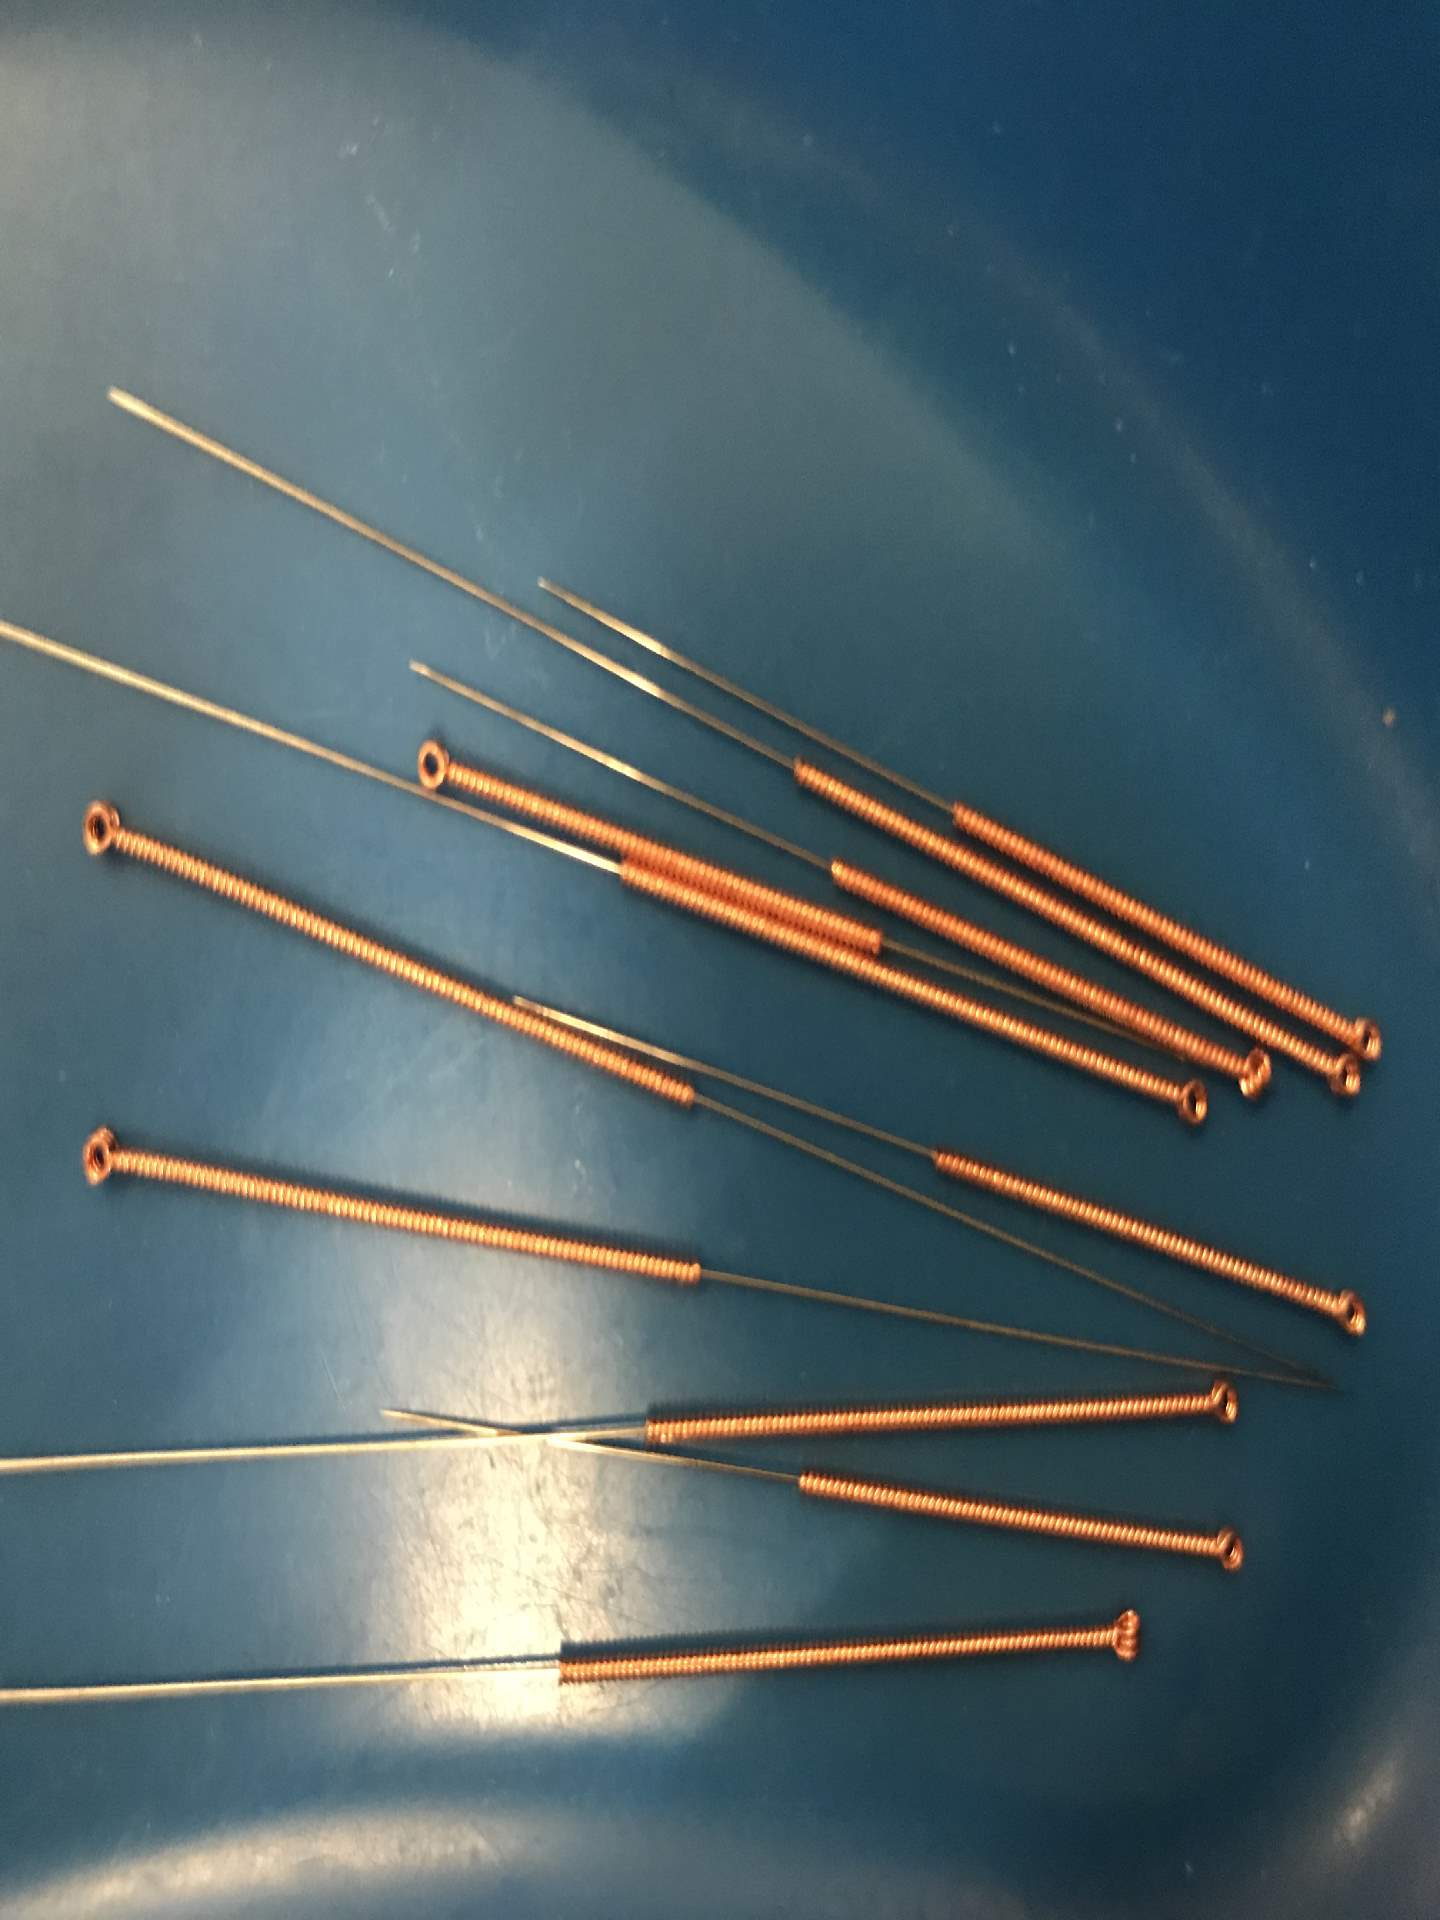needle: (57, 785, 147, 877), (390, 723, 476, 813), (59, 1108, 138, 1203), (1305, 1265, 1383, 1355), (1088, 1593, 1159, 1677), (1181, 1367, 1252, 1439), (1189, 1515, 1254, 1587), (1159, 1070, 1219, 1143), (1225, 1042, 1280, 1110), (1342, 993, 1392, 1061), (1311, 1049, 1367, 1110)
